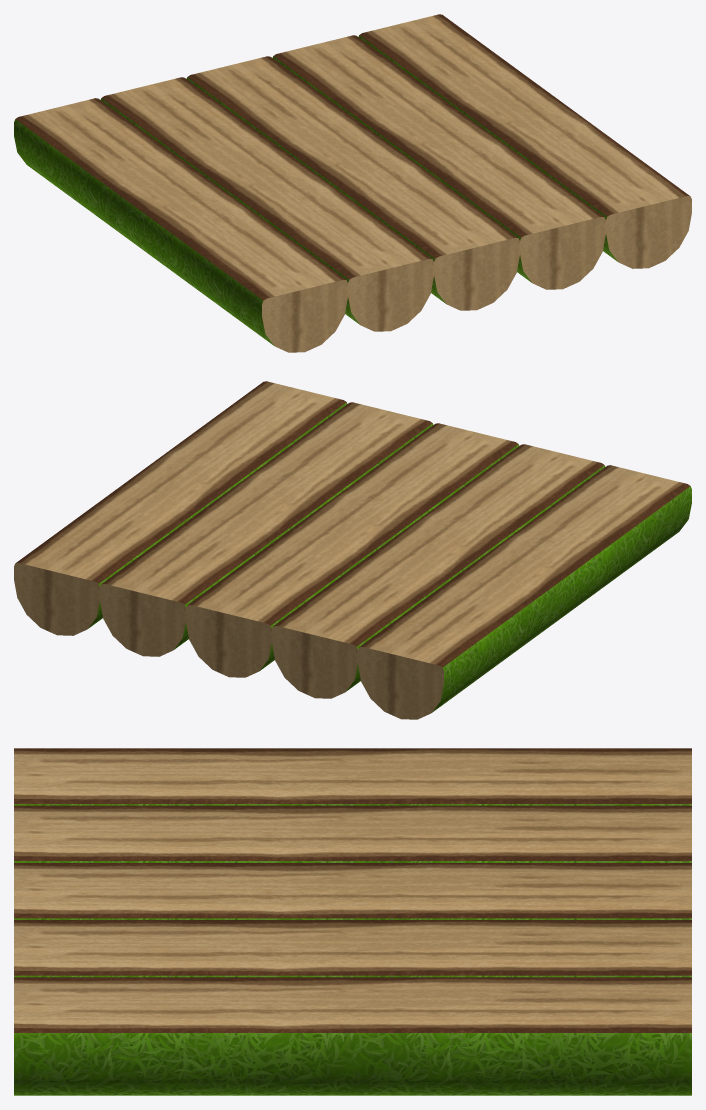
The model's file is SM_wood_platform.fbx.
3 renders of one model, top to bottom at view 1: azimuth 30°, elevation 25°; view 2: azimuth 150°, elevation 25°; view 3: azimuth 270°, elevation 25°, orthographic. The views are drawn at different scales.
Parts seen in each view (by area): view 1: Log_Platform; view 2: Log_Platform; view 3: Log_Platform.
Boxes of the visible parts, x1,y1,x2,y2 form: Log_Platform: (14,14,691,352); Log_Platform: (14,381,691,719); Log_Platform: (14,748,691,1095).
Bounding box in the file's own units: 1000 × 1000 × 140.
